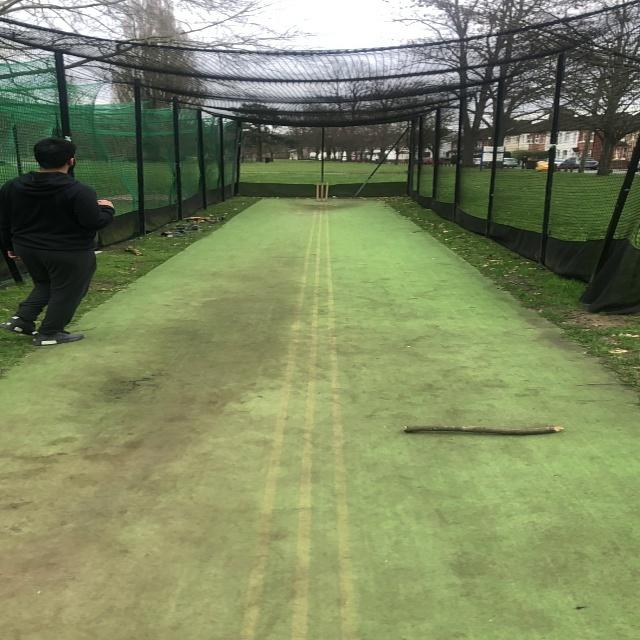ball: (332, 195, 337, 199)
